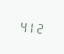four: (18, 18, 25, 33)
one: (27, 19, 34, 34)
two: (35, 20, 42, 34)
